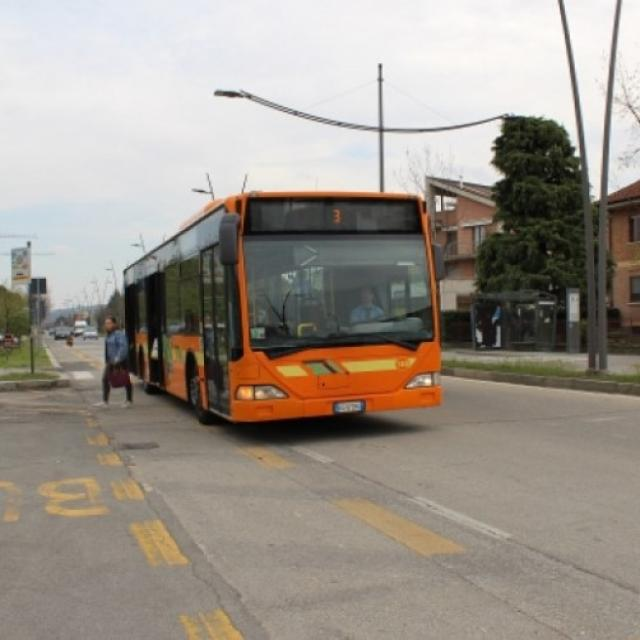bus: (119, 187, 442, 430)
